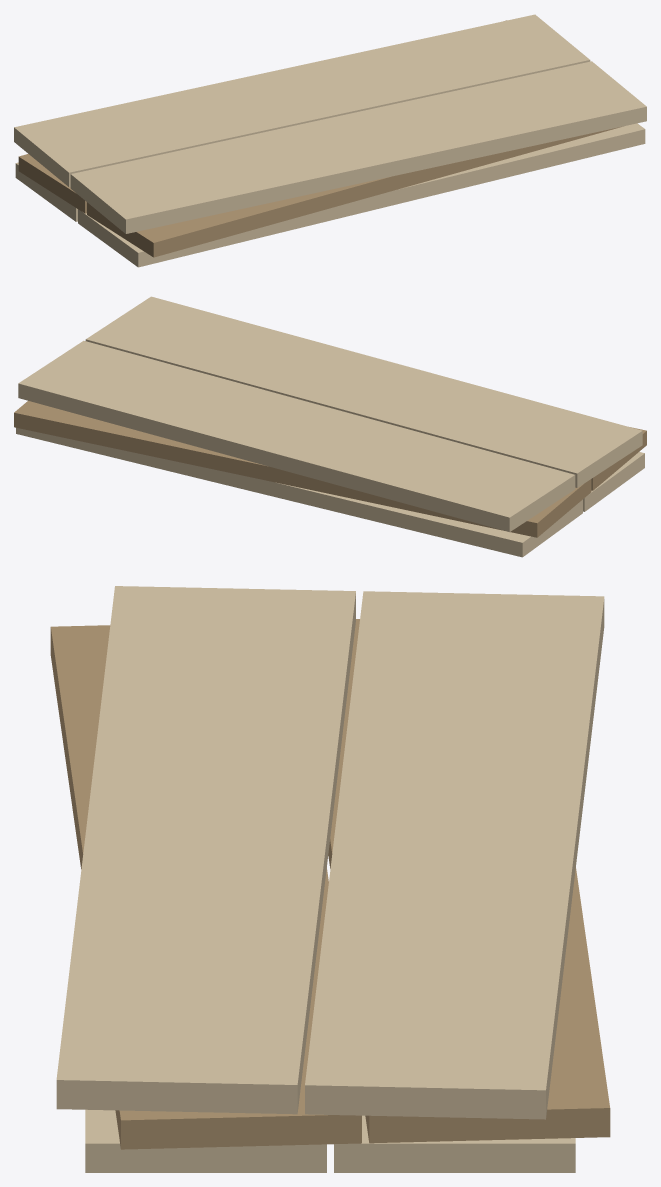
File: prop-blank-board-stack.fbx
3 renders of one model, top to bottom at view 1: azimuth 30°, elevation 25°; view 2: azimuth 150°, elevation 25°; view 3: azimuth 270°, elevation 25°, orthographic. The views are drawn at different scales.
Visible parts, largest first — view 1: prop-blank-board-stack; view 2: prop-blank-board-stack; view 3: prop-blank-board-stack.
Part boxes in pixels (left/top/right/bottom): prop-blank-board-stack: left=14, top=14, right=646, bottom=267; prop-blank-board-stack: left=14, top=296, right=646, bottom=557; prop-blank-board-stack: left=50, top=586, right=610, bottom=1172.
Size of the model in its own units: 81.86 by 6.6 by 38.24.
